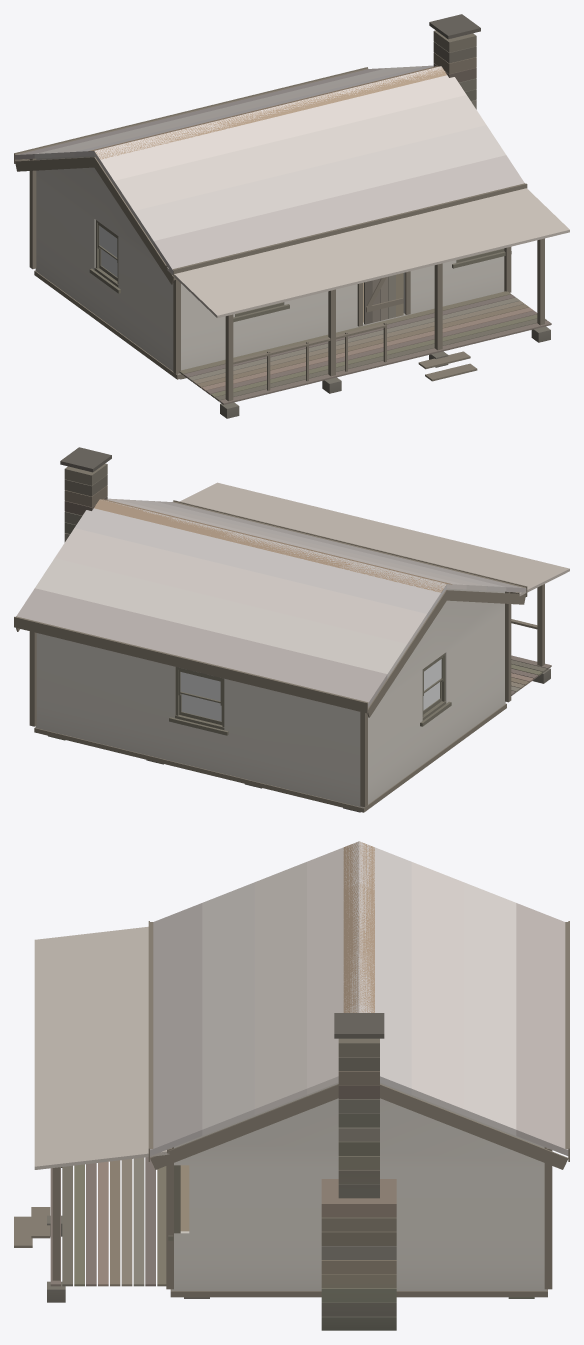
The model's file is cabin_abandoned_a_lod2.glb.
3 renders of one model, top to bottom at view 1: azimuth 30°, elevation 25°; view 2: azimuth 150°, elevation 25°; view 3: azimuth 270°, elevation 25°, orthographic. The views are drawn at different scales.
Parts seen in each view (by area): view 1: body, door, windows; view 2: body, windows; view 3: body.
Boxes of the visible parts, x1=… form: body: x1=14, y1=14, x2=569, y2=418; door: x1=364, y1=273, x2=403, y2=324; windows: x1=99, y1=226, x2=117, y2=276; body: x1=14, y1=447, x2=569, y2=812; windows: x1=180, y1=659, x2=441, y2=721; body: x1=14, y1=841, x2=569, y2=1330.
Size of what is drawn, in the model's own units: 9.34 by 5.2 by 8.9.
